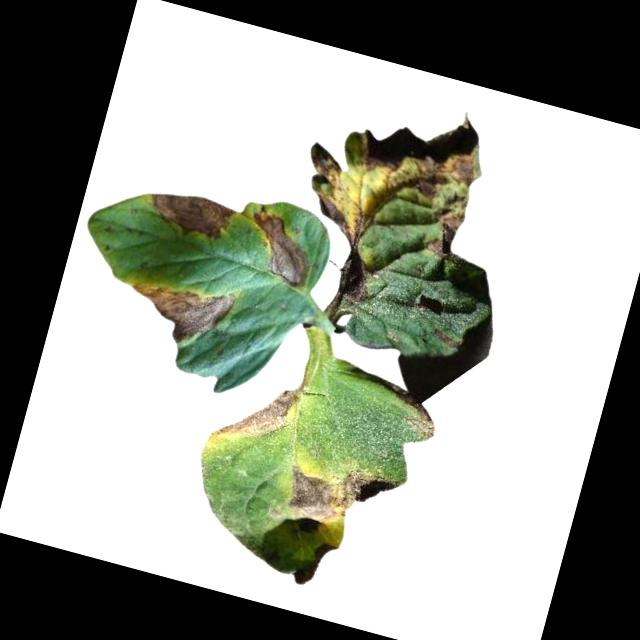Early_blight: (282, 84, 495, 325), (116, 264, 239, 359), (278, 458, 398, 541), (213, 367, 303, 454), (237, 203, 322, 288), (141, 185, 238, 247), (403, 400, 441, 442), (430, 329, 461, 353)
